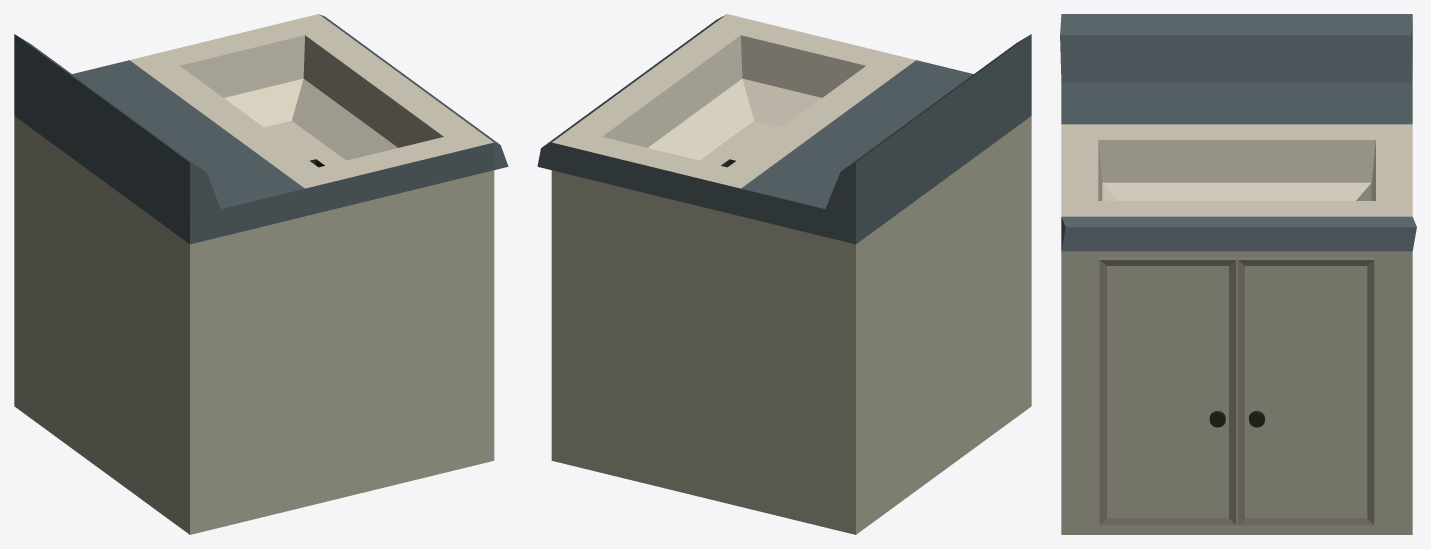
Rendered from Closed2DoorSinkCounter(Counter)V2.fbx.
3 views of the same model, side by side, from view 1: azimuth 30°, elevation 25°; view 2: azimuth 150°, elevation 25°; view 3: azimuth 270°, elevation 25° (orthographic).
Visible parts, largest first — view 1: Counter; view 2: Counter; view 3: Counter.
Boxes of the visible parts, left/top/right/bottom form: Counter: left=14, top=14, right=508, bottom=534; Counter: left=537, top=14, right=1031, bottom=534; Counter: left=1060, top=14, right=1416, bottom=534.
Bounding box in the file's own units: 523 × 539 × 603.
